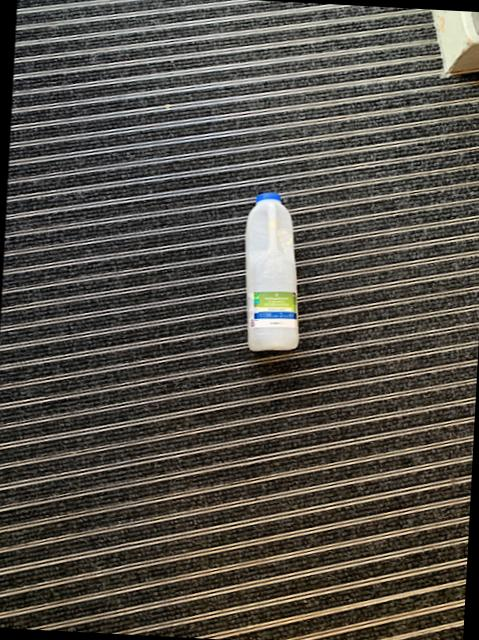plastic: (243, 192, 296, 348)
